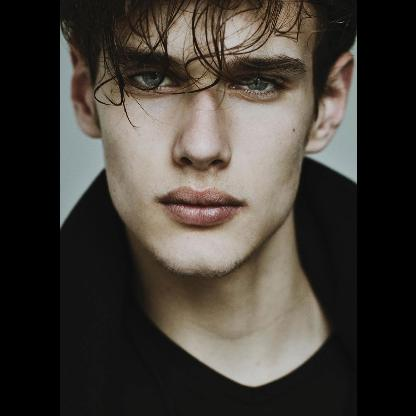Male: (70, 0, 352, 274)
